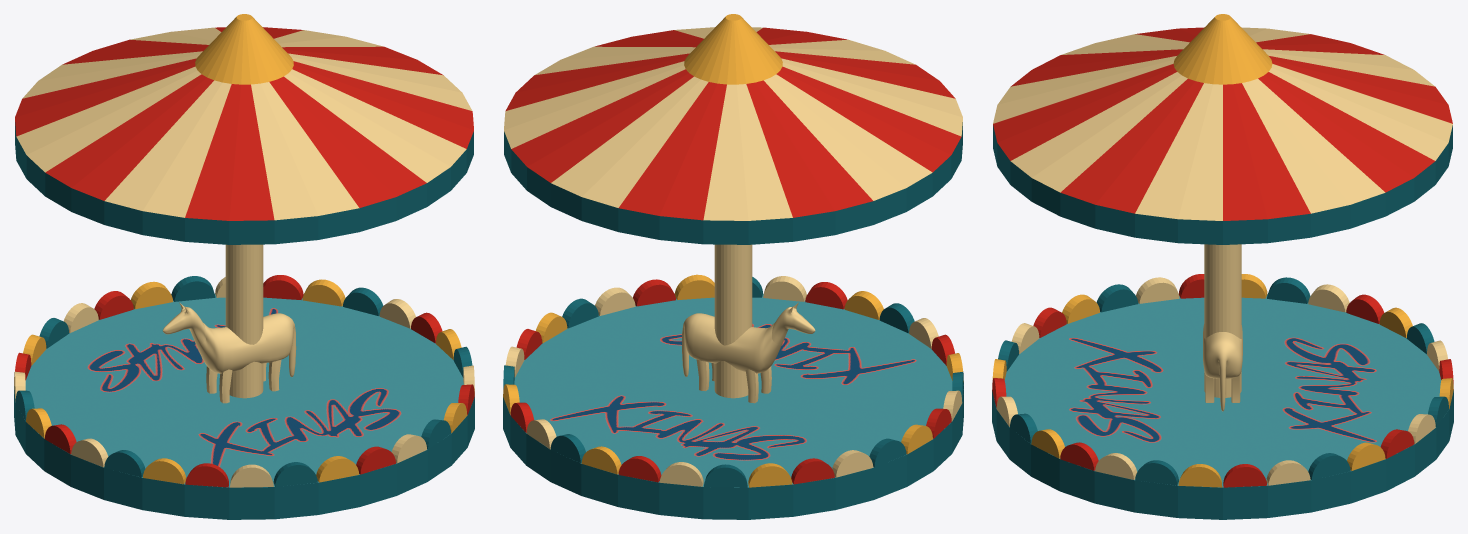
File: Carousel.obj
3 views of the same model, side by side, from view 1: azimuth 30°, elevation 25°; view 2: azimuth 150°, elevation 25°; view 3: azimuth 270°, elevation 25° (orthographic).
Visible parts, largest first — view 1: Base, Horse; view 2: Base, Horse; view 3: Base, Horse.
Part boxes in pixels (box(x1,y1,x2,y2)): Base: box(14, 14, 474, 519); Horse: box(162, 302, 296, 403); Base: box(503, 14, 963, 519); Horse: box(682, 302, 815, 403); Base: box(992, 14, 1453, 519); Horse: box(1203, 324, 1242, 411).
Size of the model in its own units: 24.19 by 23.41 by 24.19.
Materials: 6 (1 with a texture image).
